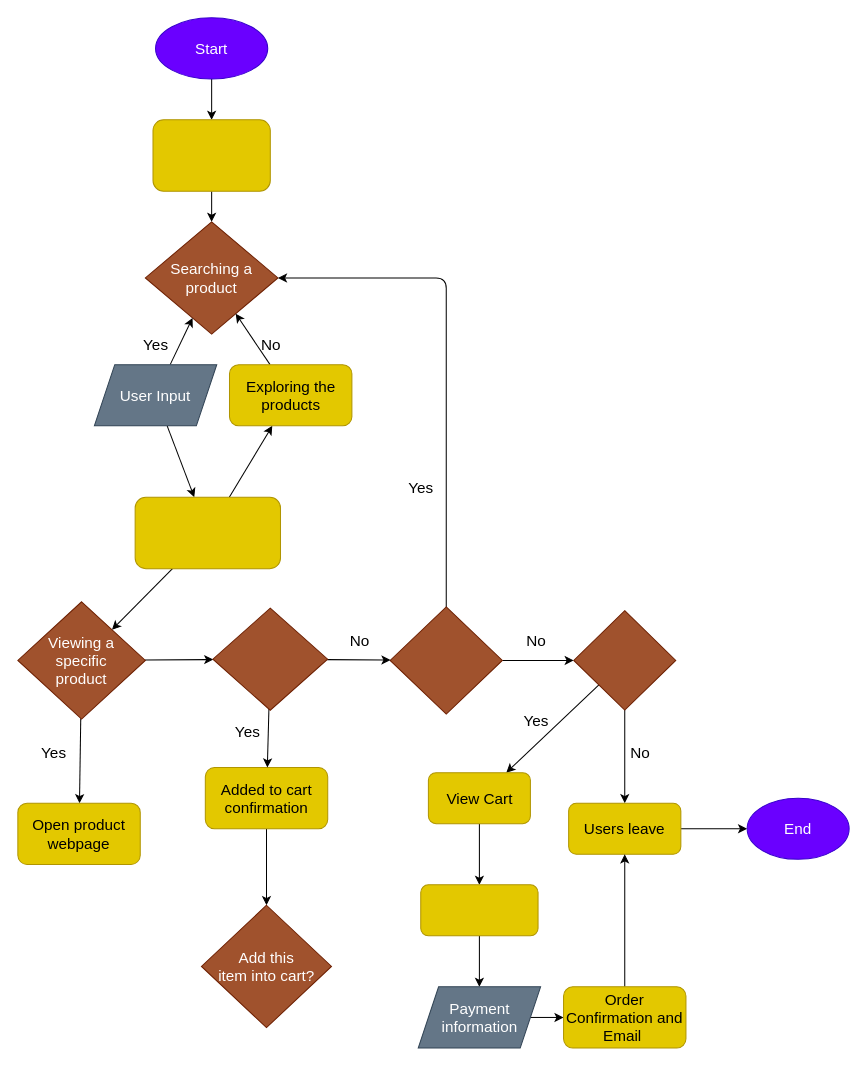
This 867x1066 diagram has some shape labels left out. The box of each missing label's shape, as (x1, y1, x2, y2) in pixels:
Checkout: (573, 610, 676, 710)
Continue Shopping: (389, 606, 502, 714)
Looking over the products: (134, 496, 280, 569)
User add product into cart: (212, 607, 328, 710)
Users Entering the Website: (152, 119, 270, 191)
View Payment: (420, 884, 538, 936)
